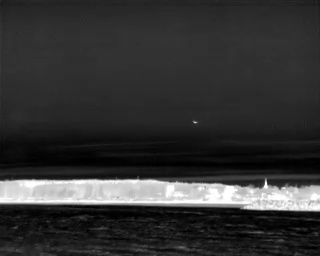BIRD: (191, 118, 199, 127)
